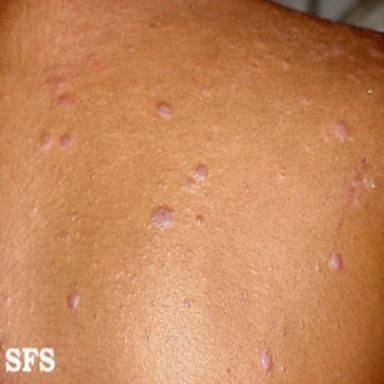lichen: (151, 207, 173, 229), (45, 72, 67, 88), (334, 121, 349, 142), (259, 351, 273, 373), (39, 130, 53, 151), (193, 164, 208, 182), (157, 102, 172, 119), (329, 254, 342, 271), (56, 94, 75, 105), (60, 135, 73, 150), (67, 293, 79, 309), (185, 178, 196, 191), (281, 57, 291, 70), (201, 85, 211, 96), (183, 299, 192, 309), (196, 215, 203, 226)
